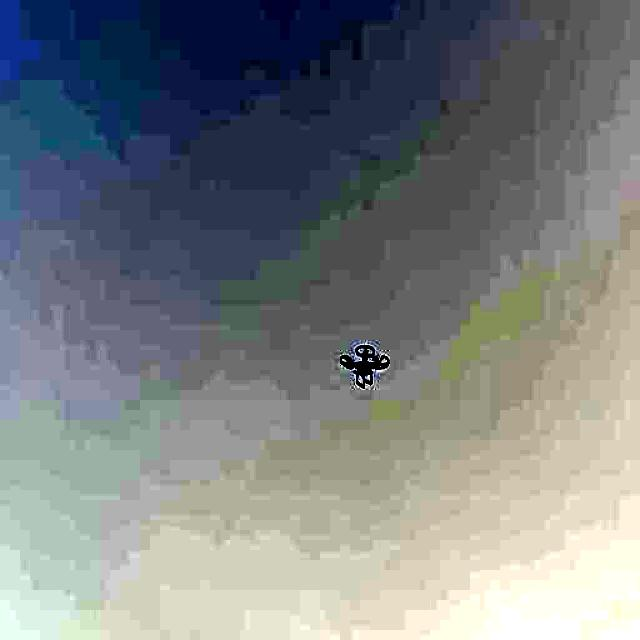bird: (330, 318, 399, 416)
